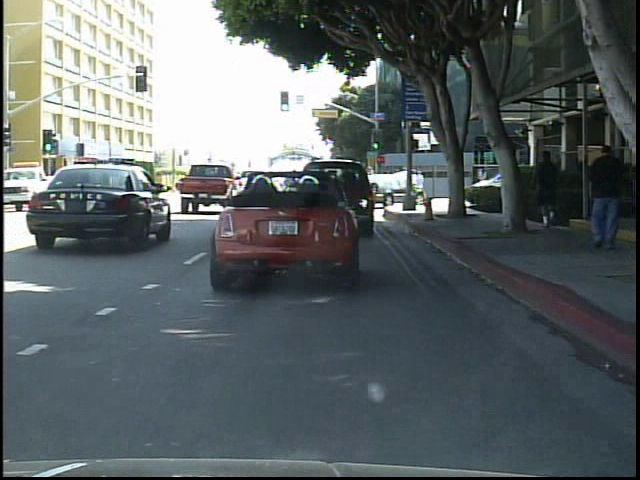person: (584, 141, 634, 260), (529, 146, 570, 236), (136, 174, 155, 201)
